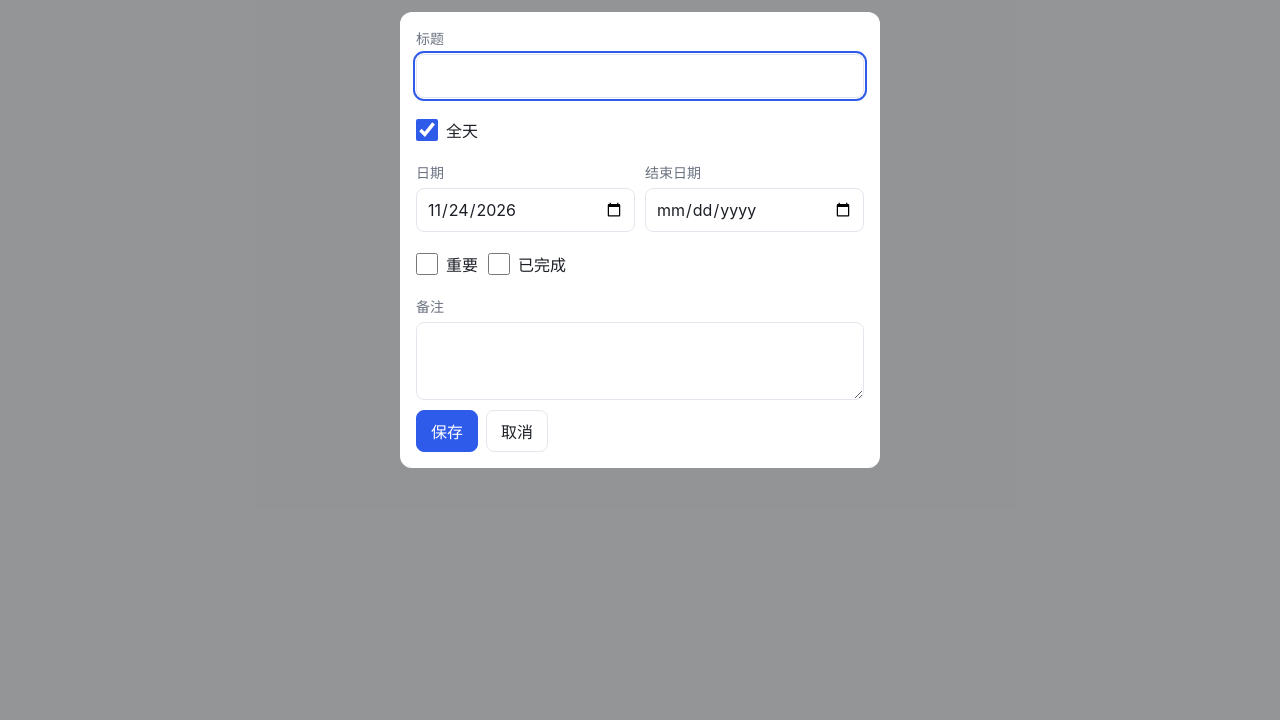
it: a blank title is refused with 请填写标题
The width and height of the screenshot is (1280, 720).
Click the button "保存".
click(447, 431)  # box [416, 410, 478, 452]
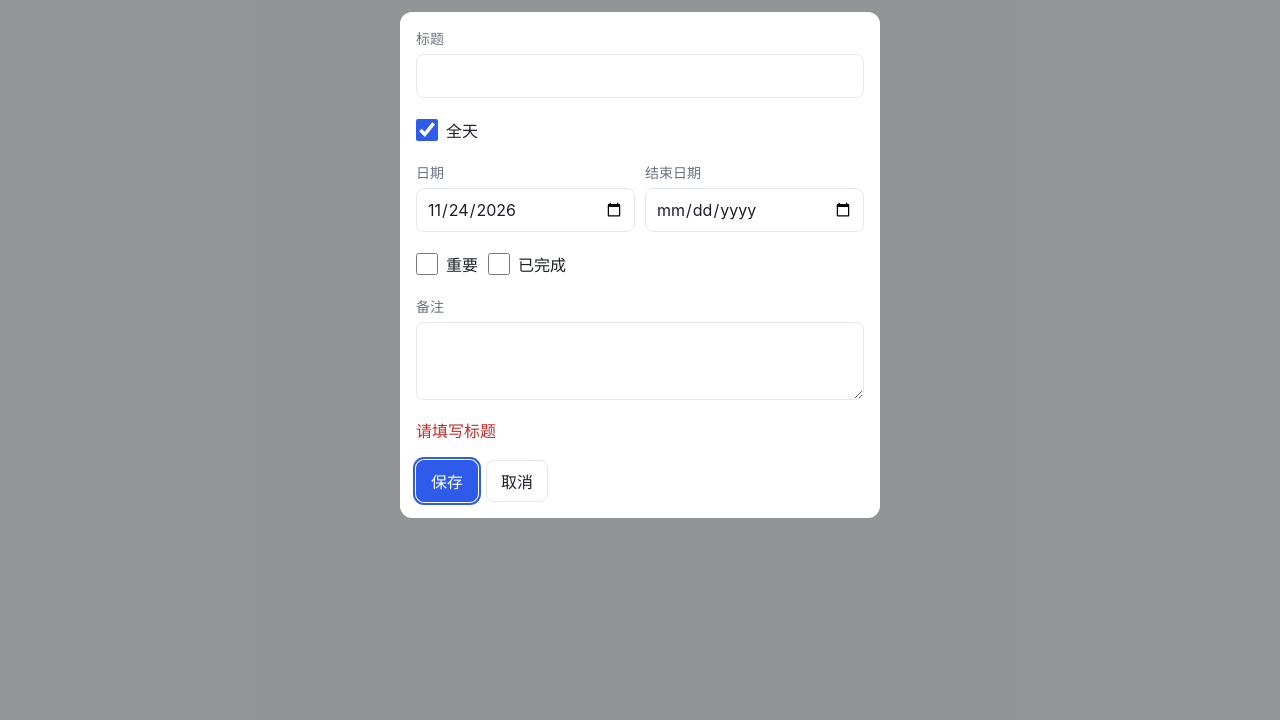
Check: the message reads "请填写标题", box [416, 421, 496, 441]
